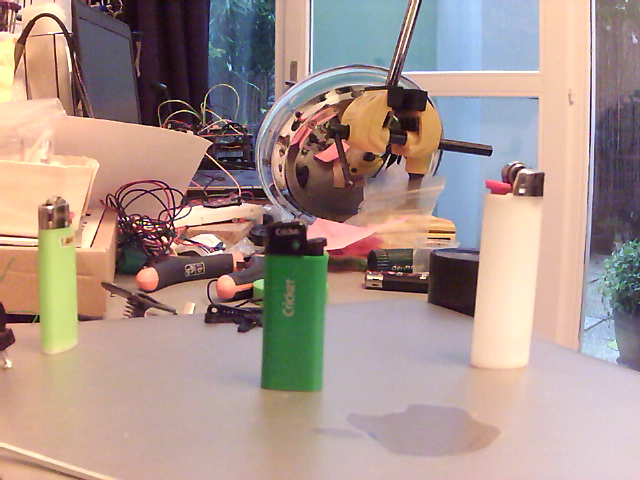lighter: (468, 159, 549, 373), (261, 219, 330, 396), (33, 192, 80, 353)
